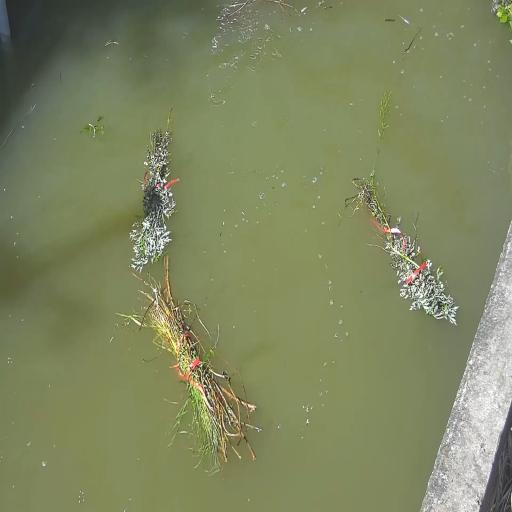twig: (152, 277, 255, 461), (350, 176, 458, 323), (130, 129, 175, 272), (492, 0, 512, 30)
